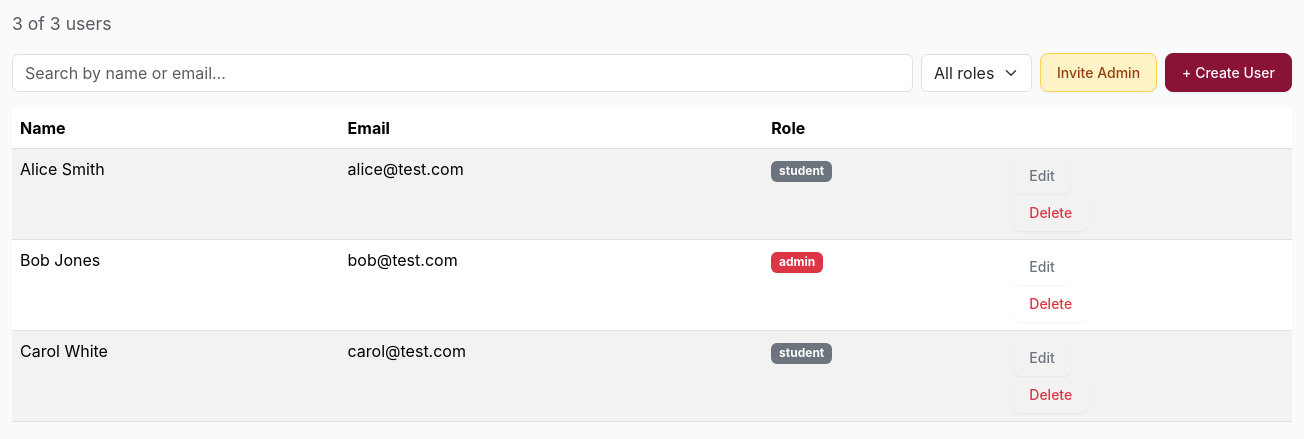
Test: UserManagementTab › filters users by search input
Expected: the text "Alice Smith" is shown, [12,149,340,240]
Type "alice" into the field with placeholder "Search by name or email…" at (462, 73), box [12,54,913,92]
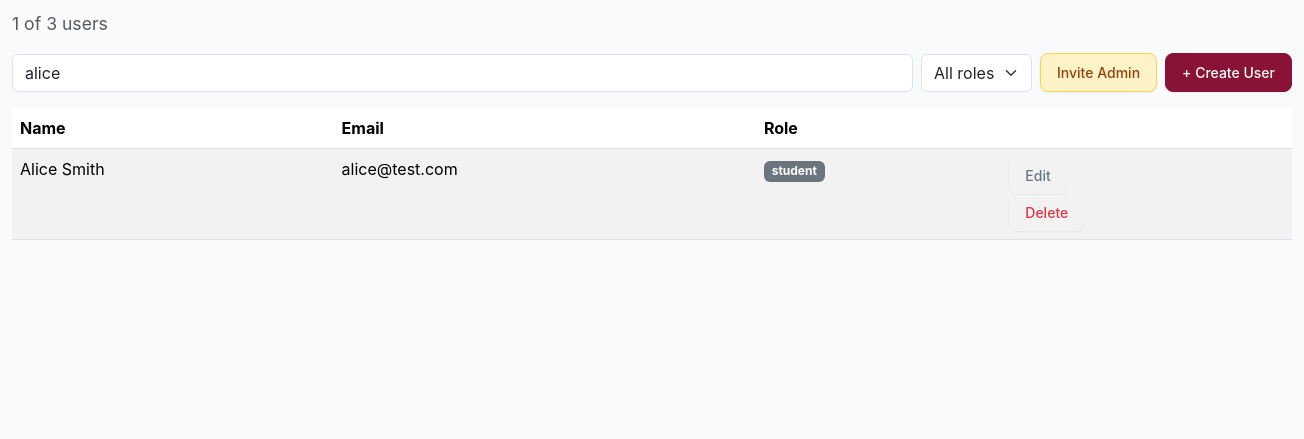
Expected: the text "Alice Smith" is shown, [12,149,334,240]
Now the text "Bob Jones" is gone
